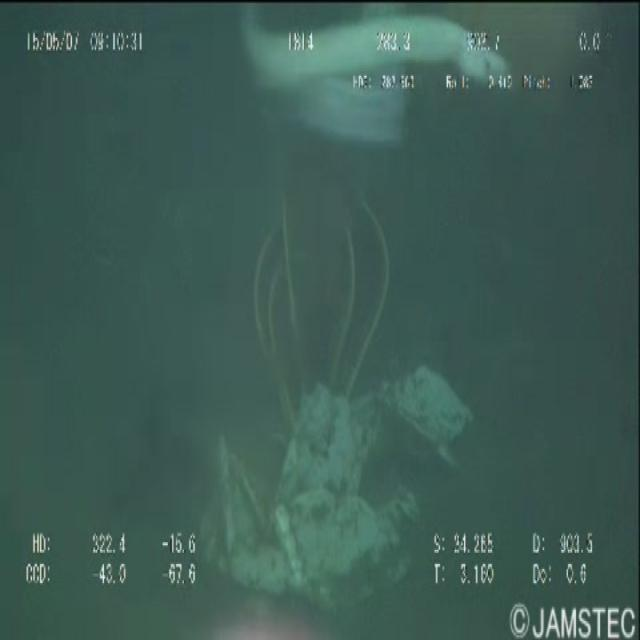Metal: (240, 190, 401, 458)
Plastic: (197, 367, 478, 600)
